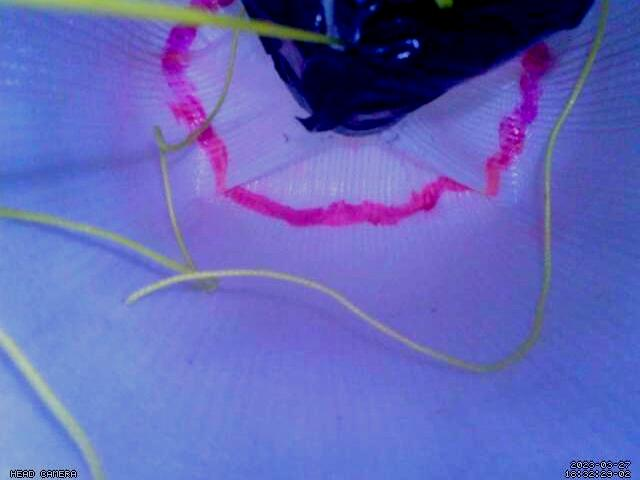head: (160, 0, 553, 229)
